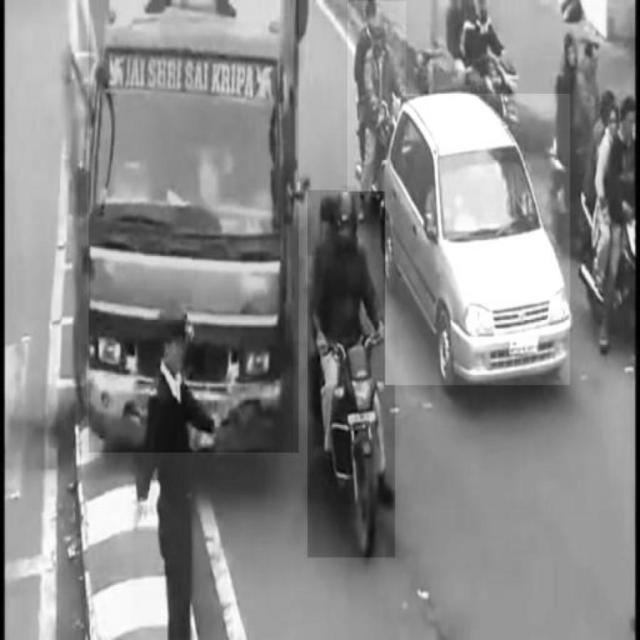person: (132, 300, 214, 637)
vehicle: (88, 0, 298, 452), (384, 94, 570, 385), (308, 191, 396, 558), (348, 1, 406, 191)
